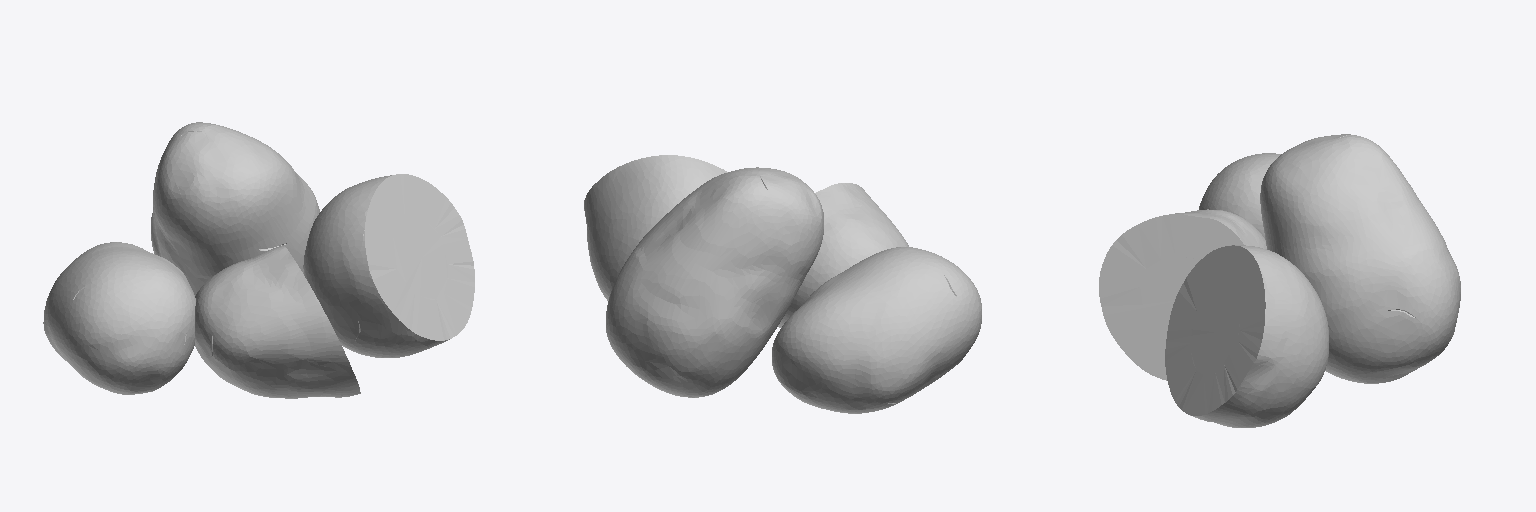
The model's file is potato.obj.
3 views of the same model, side by side, from view 1: azimuth 30°, elevation 25°; view 2: azimuth 150°, elevation 25°; view 3: azimuth 270°, elevation 25° (orthographic).
Parts seen in each view (by area): view 1: AM130_007_004, AM130_007_001, AM130_007_002, AM130_007_003; view 2: AM130_007_001, AM130_007_002, AM130_007_004, AM130_007_003; view 3: AM130_007_001, AM130_007_004, AM130_007_003, AM130_007_002.
Part boxes in pixels (bbox=[...]): AM130_007_004: bbox=[303, 174, 474, 357]; AM130_007_001: bbox=[151, 122, 319, 295]; AM130_007_002: bbox=[43, 242, 195, 394]; AM130_007_003: bbox=[195, 245, 360, 398]; AM130_007_001: bbox=[606, 167, 823, 397]; AM130_007_002: bbox=[772, 247, 981, 413]; AM130_007_004: bbox=[584, 155, 727, 300]; AM130_007_003: bbox=[778, 183, 908, 327]; AM130_007_001: bbox=[1260, 134, 1460, 383]; AM130_007_004: bbox=[1165, 245, 1328, 427]; AM130_007_003: bbox=[1099, 209, 1266, 380]; AM130_007_002: bbox=[1199, 153, 1280, 237].
Bounding box in the file's own units: 186 × 97.91 × 148.